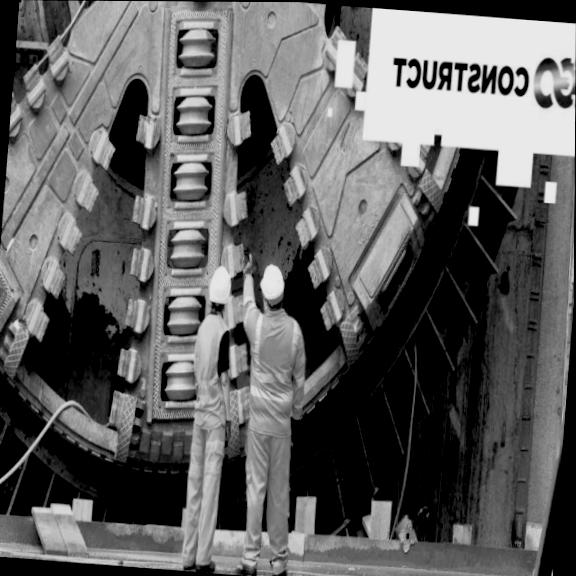safety_vest: (241, 303, 307, 434), (189, 309, 238, 440)
